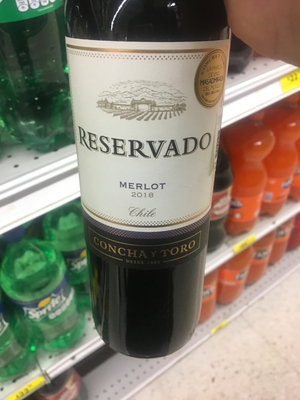reservado merlot: (61, 14, 247, 362)
